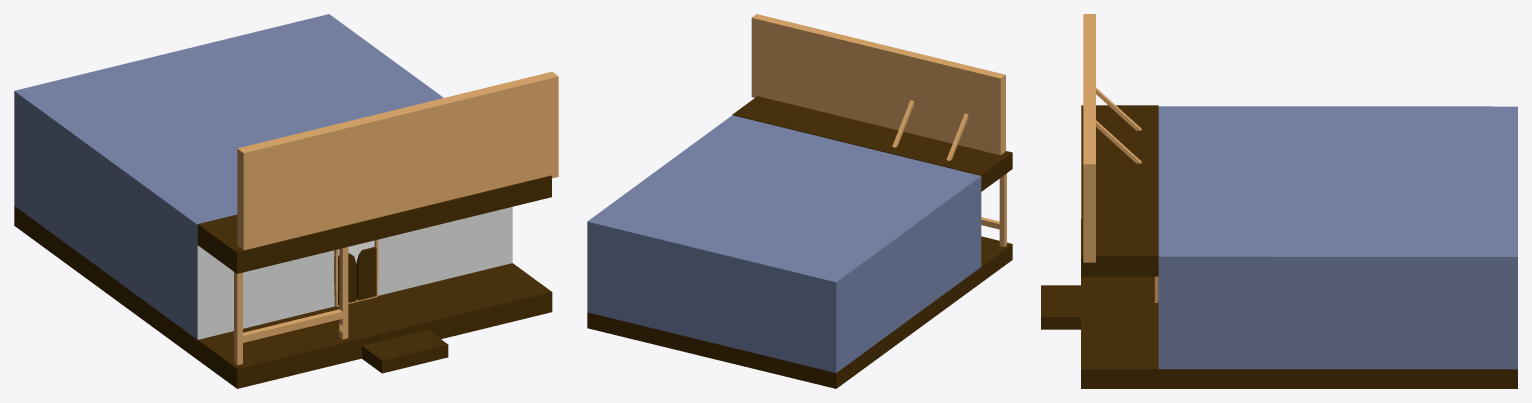
File: Building2.glb
3 renders of one model, left to right at view 1: azimuth 30°, elevation 25°; view 2: azimuth 150°, elevation 25°; view 3: azimuth 270°, elevation 25°, orthographic. The views are drawn at different scales.
Visible parts, largest first — view 1: Cube.008, Cube.006, Cube.001; view 2: Cube.008, Cube.006, Cube.009; view 3: Cube.008, Cube.009.
Part boxes in pixels (x1=…): Cube.008: x1=14, y1=14, x2=558, y2=388; Cube.006: x1=234, y1=247, x2=348, y2=365; Cube.001: x1=334, y1=239, x2=378, y2=306; Cube.008: x1=587, y1=14, x2=1012, y2=388; Cube.006: x1=981, y1=173, x2=1006, y2=246; Cube.009: x1=892, y1=100, x2=968, y2=160; Cube.008: x1=1041, y1=14, x2=1517, y2=388; Cube.009: x1=1096, y1=87, x2=1141, y2=163.
Size of the model in its own units: 14.11 by 9.74 by 18.44.
